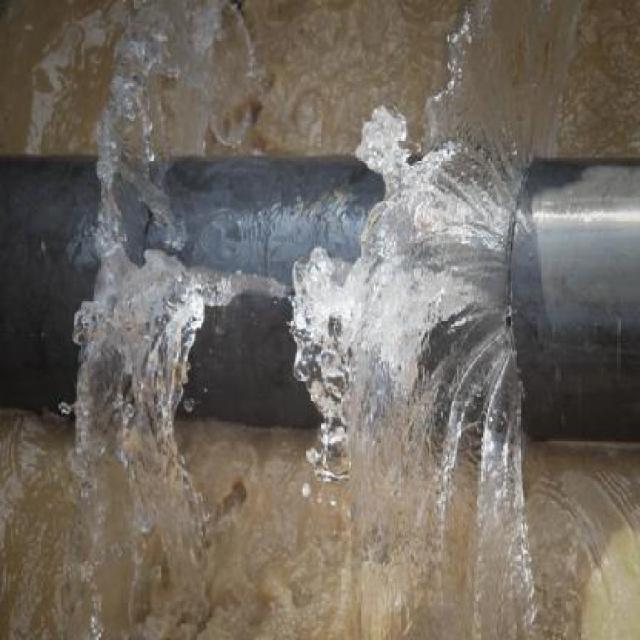leak: (296, 0, 578, 640), (75, 0, 251, 640)
